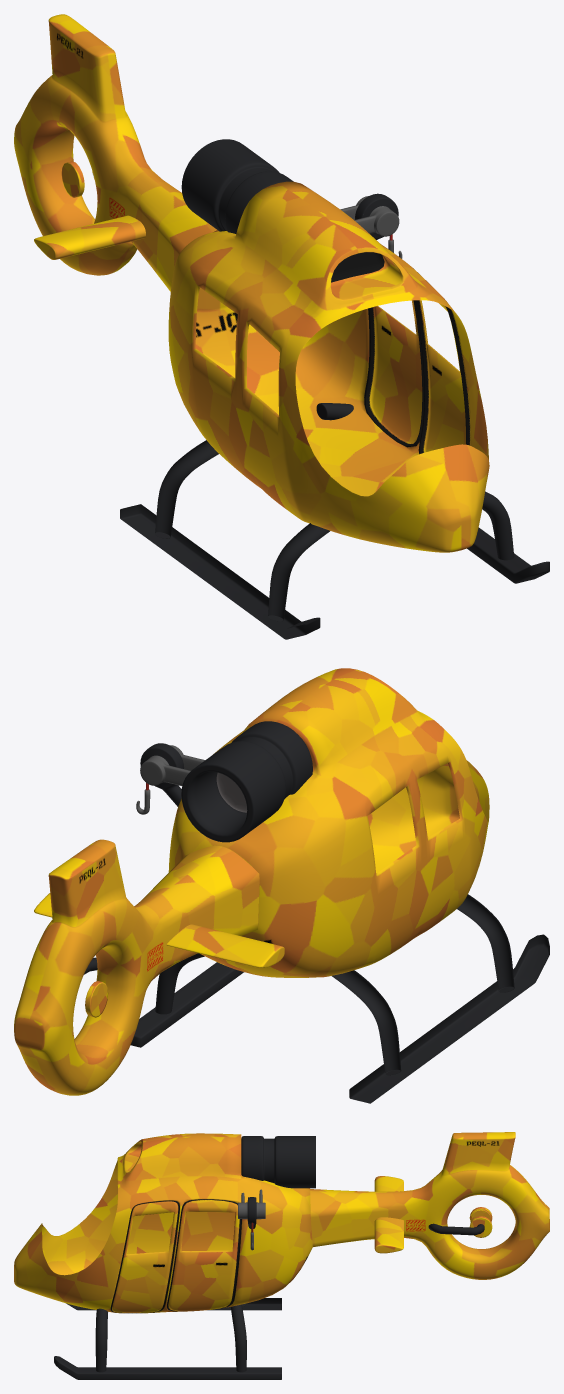
The model's file is Body.fbx.
The picture shows the model from 3 angles, top to bottom: view 1: azimuth 30°, elevation 25°; view 2: azimuth 150°, elevation 25°; view 3: azimuth 270°, elevation 25°; orthographic projection. The views are drawn at different scales.
Parts seen in each view (by area): view 1: Body; view 2: Body; view 3: Body.
Boxes of the visible parts, bbox=[...] form: Body: bbox=[14, 14, 549, 639]; Body: bbox=[14, 668, 549, 1103]; Body: bbox=[14, 1132, 549, 1379].
Size of the model in its own units: 162 by 202 by 470.
